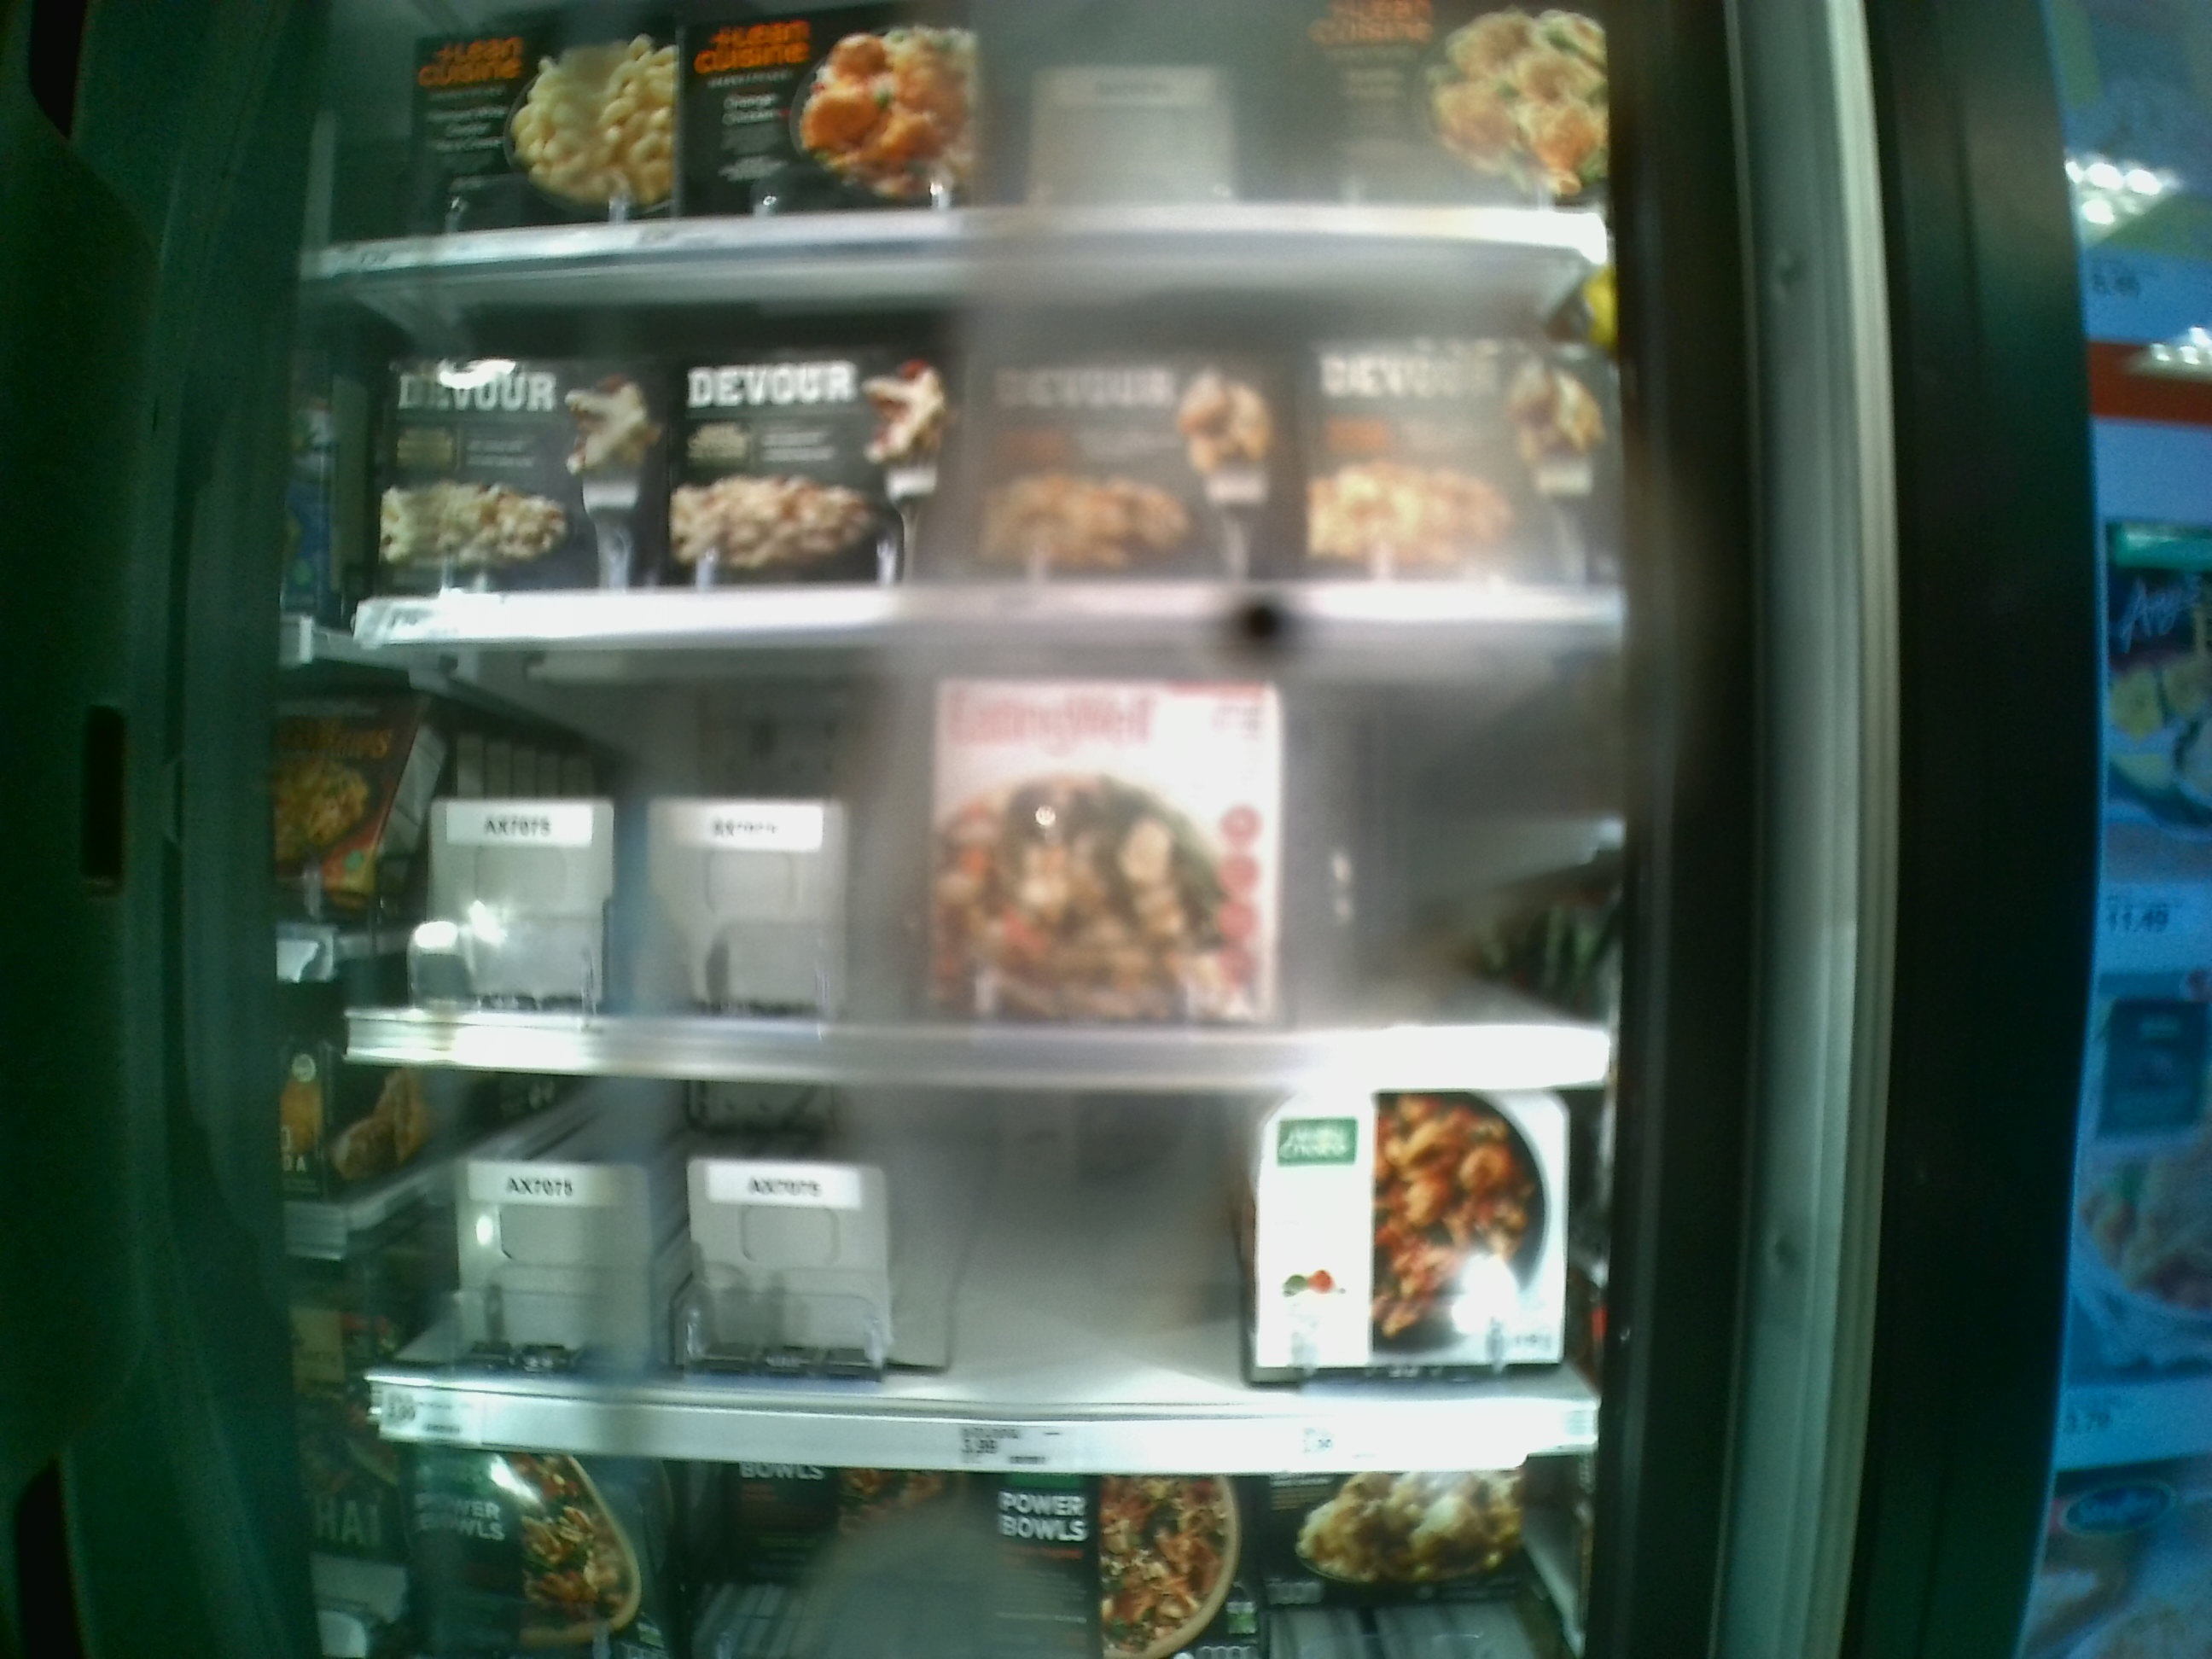shelf: (347, 619, 1616, 1075), (354, 1063, 1604, 1476), (371, 237, 1616, 643)
